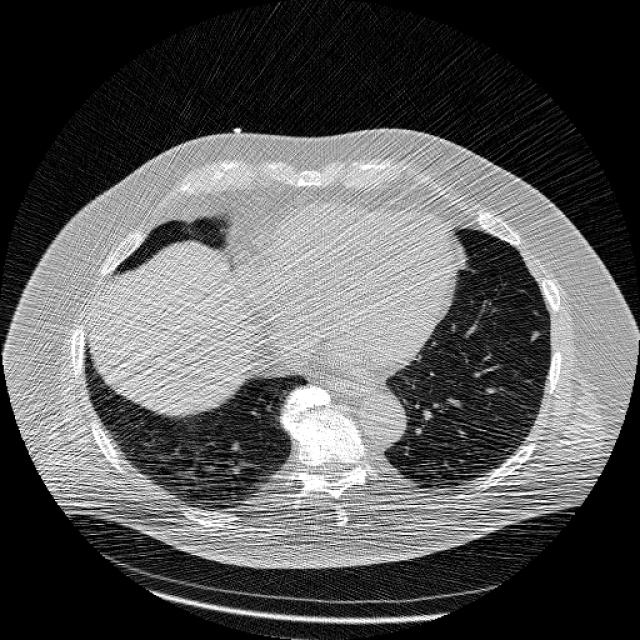nodule: (525, 326, 543, 344)
